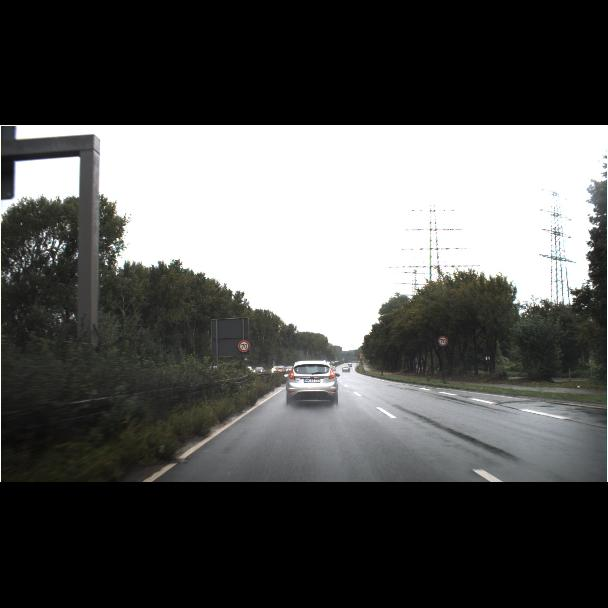speed limit 70: (238, 335, 448, 352)
